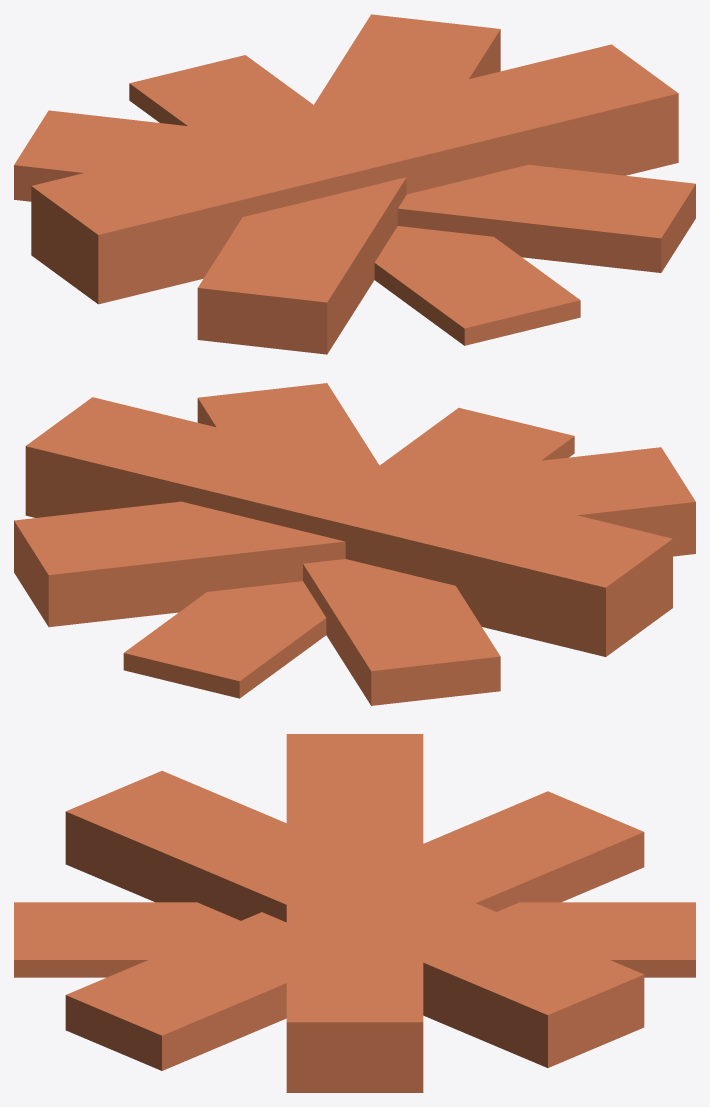
The model's file is campfire-planks.glb.
3 views of the same model, one above another, from view 1: azimuth 30°, elevation 25°; view 2: azimuth 150°, elevation 25°; view 3: azimuth 270°, elevation 25° (orthographic).
Parts seen in each view (by area): view 1: campfire_planks; view 2: campfire_planks; view 3: campfire_planks.
Part boxes in pixels (x1,y1,x2,y2): campfire_planks: (14,14,695,354); campfire_planks: (14,383,695,705); campfire_planks: (14,734,695,1092).
Bounding box in the file's own units: 0.35 × 0.04 × 0.35.
